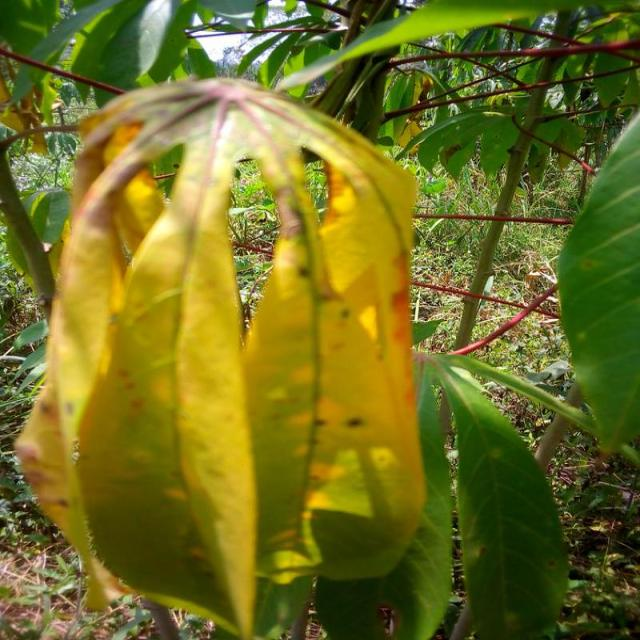cassava leaf: (15, 74, 429, 636), (418, 349, 572, 638), (557, 109, 640, 455)
